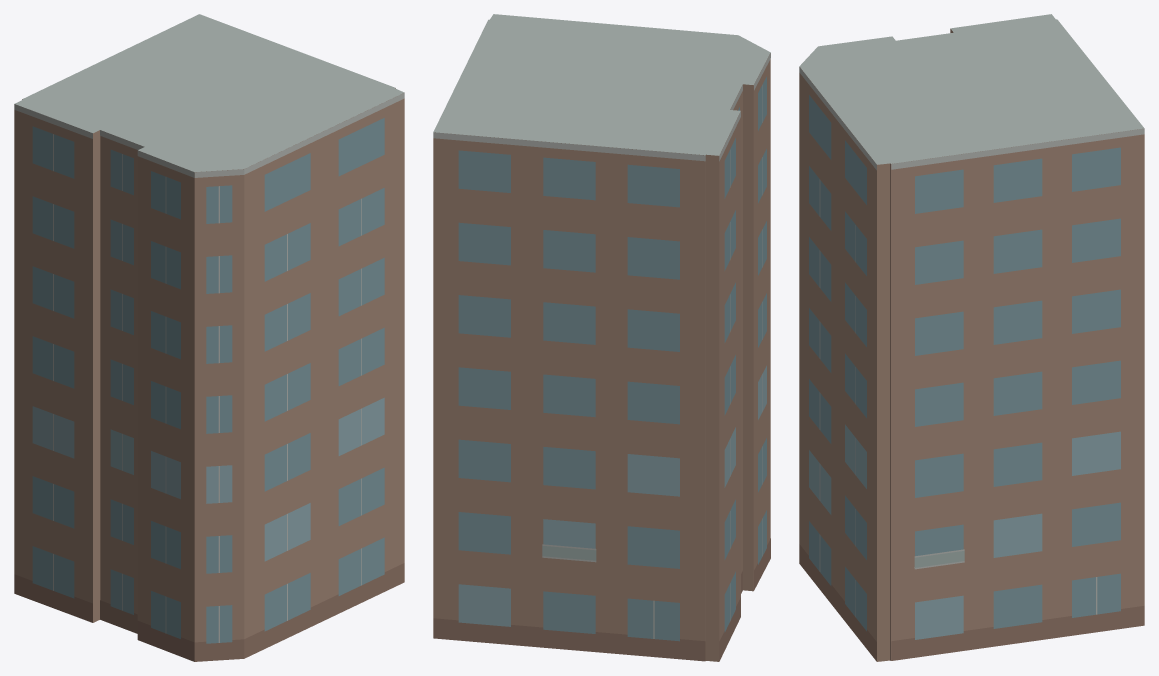
The model's file is survey-upis-33019514.glb.
3 renders of one model, left to right at view 1: azimuth 30°, elevation 25°; view 2: azimuth 150°, elevation 25°; view 3: azimuth 270°, elevation 25°, orthographic. The views are drawn at different scales.
Visible parts, largest first — view 1: survey-upis-33019514.tmp; view 2: survey-upis-33019514.tmp; view 3: survey-upis-33019514.tmp.
Part boxes in pixels (x1,y1,x2,y2): survey-upis-33019514.tmp: (14, 14, 404, 661); survey-upis-33019514.tmp: (433, 14, 770, 661); survey-upis-33019514.tmp: (799, 14, 1144, 661).
Size of the model in its own units: 13.34 by 20.5 by 12.91.
